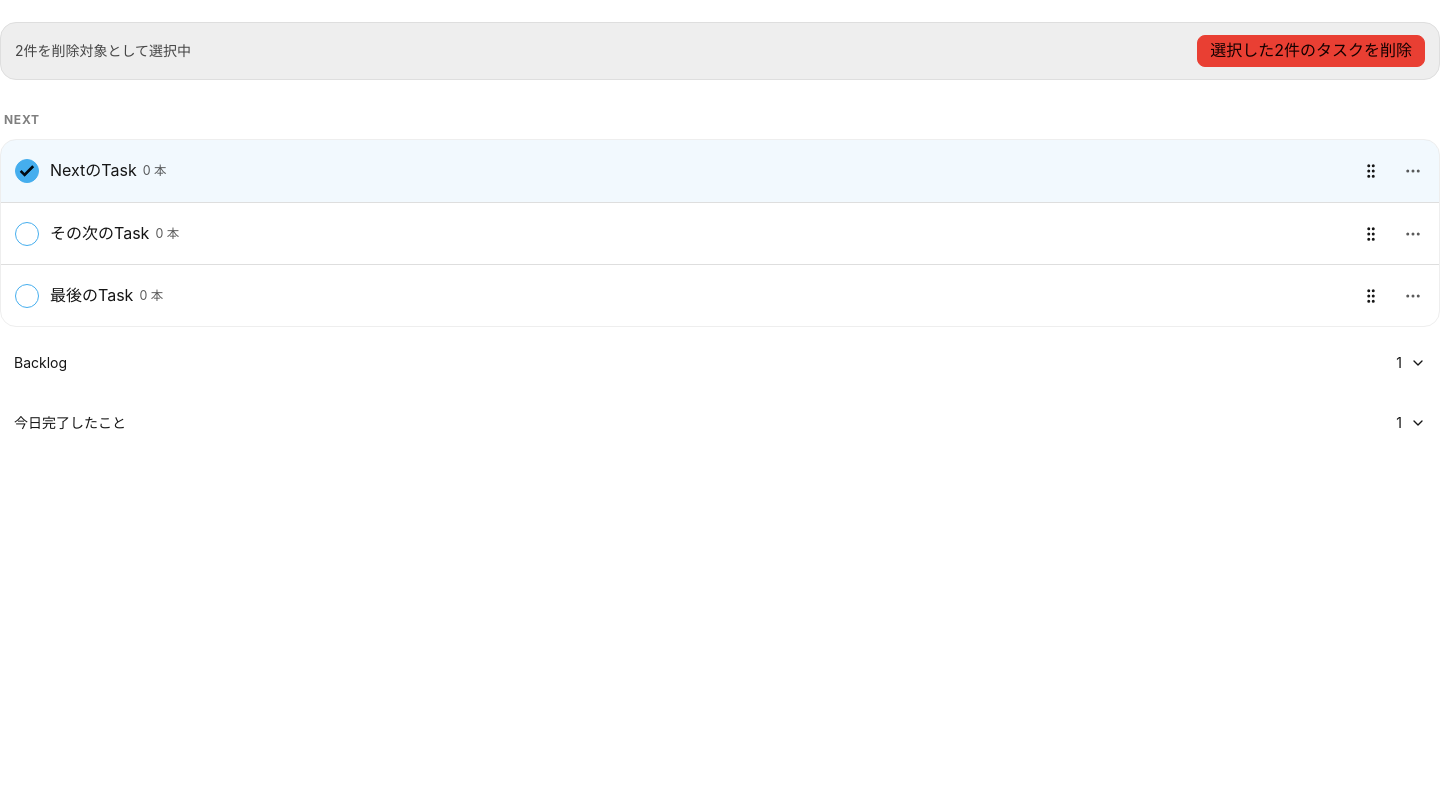
TaskList › API失敗時はDialogを閉じ、alertと選択を維持して再取得する
The width and height of the screenshot is (1440, 810).
Click the button "選択した2件のタスクを削除" at [1311, 51], box [1197,35,1425,67]
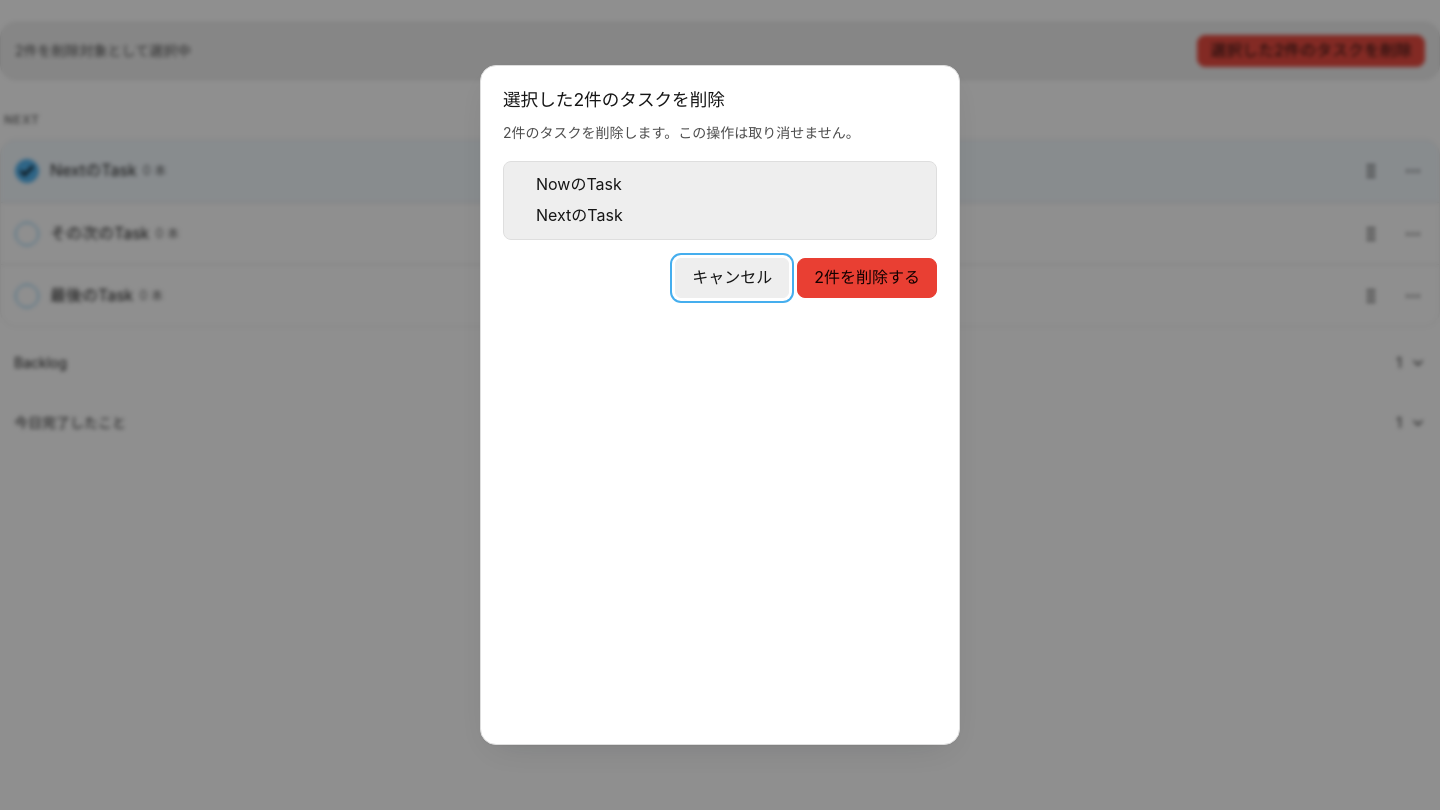
Click the button "2件を削除する" at [867, 278], box [797,258,937,298]
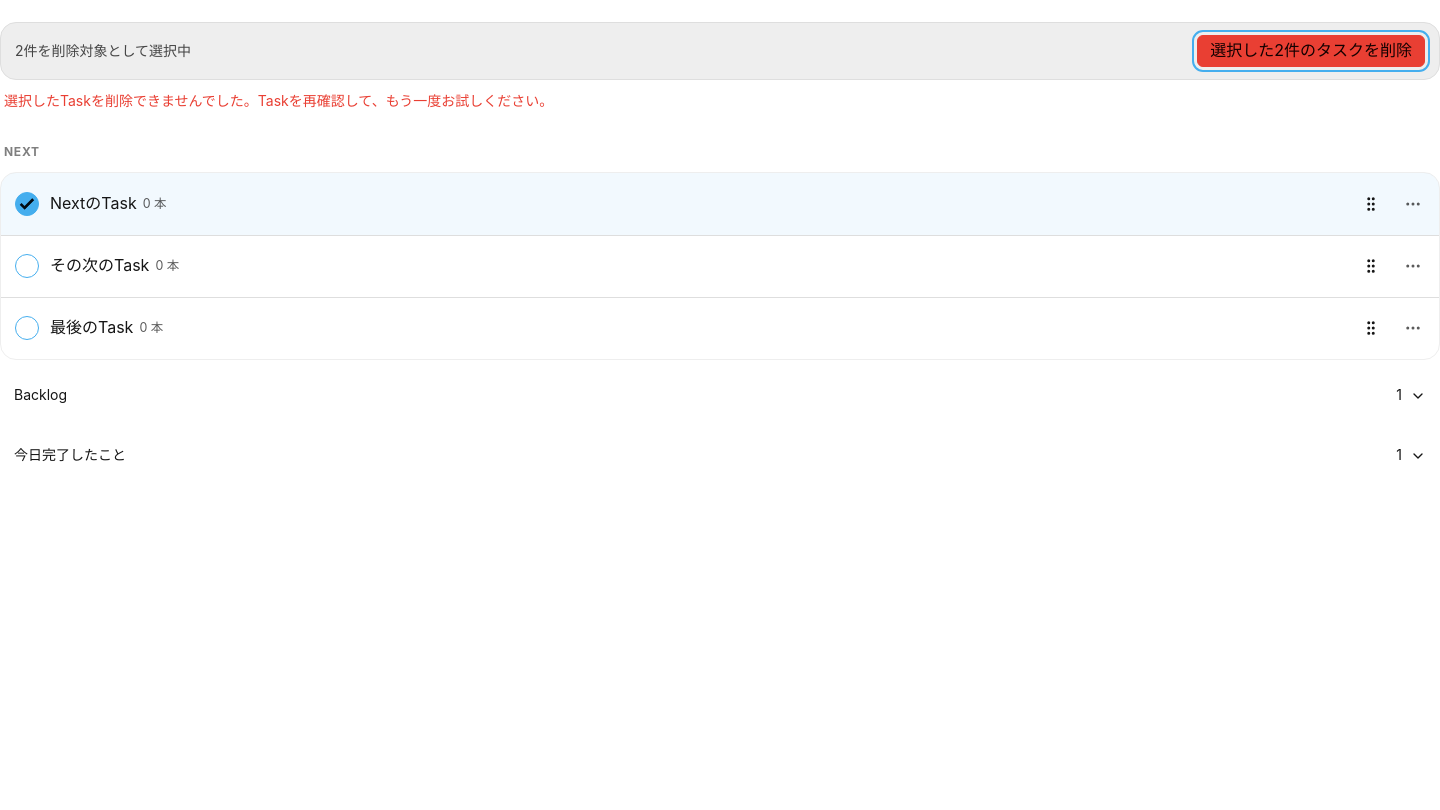
Expected: the text "2件を削除対象として選択中" is shown, [15,40,191,62]
Now the dialog is gone
Now the message "選択したTaskを削除できませんでした。Taskを再確認して、もう一度お試しください。" is shown, box [4,92,553,109]
